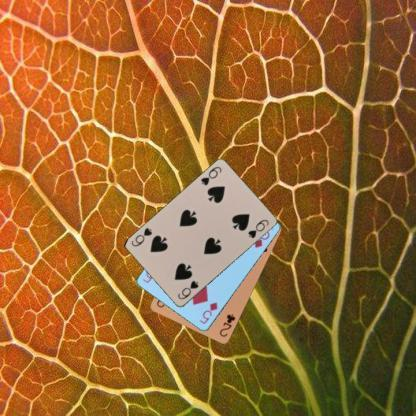2c: (217, 311, 237, 338)
5d: (197, 300, 219, 325)
6s: (175, 278, 200, 301), (198, 164, 223, 187)
